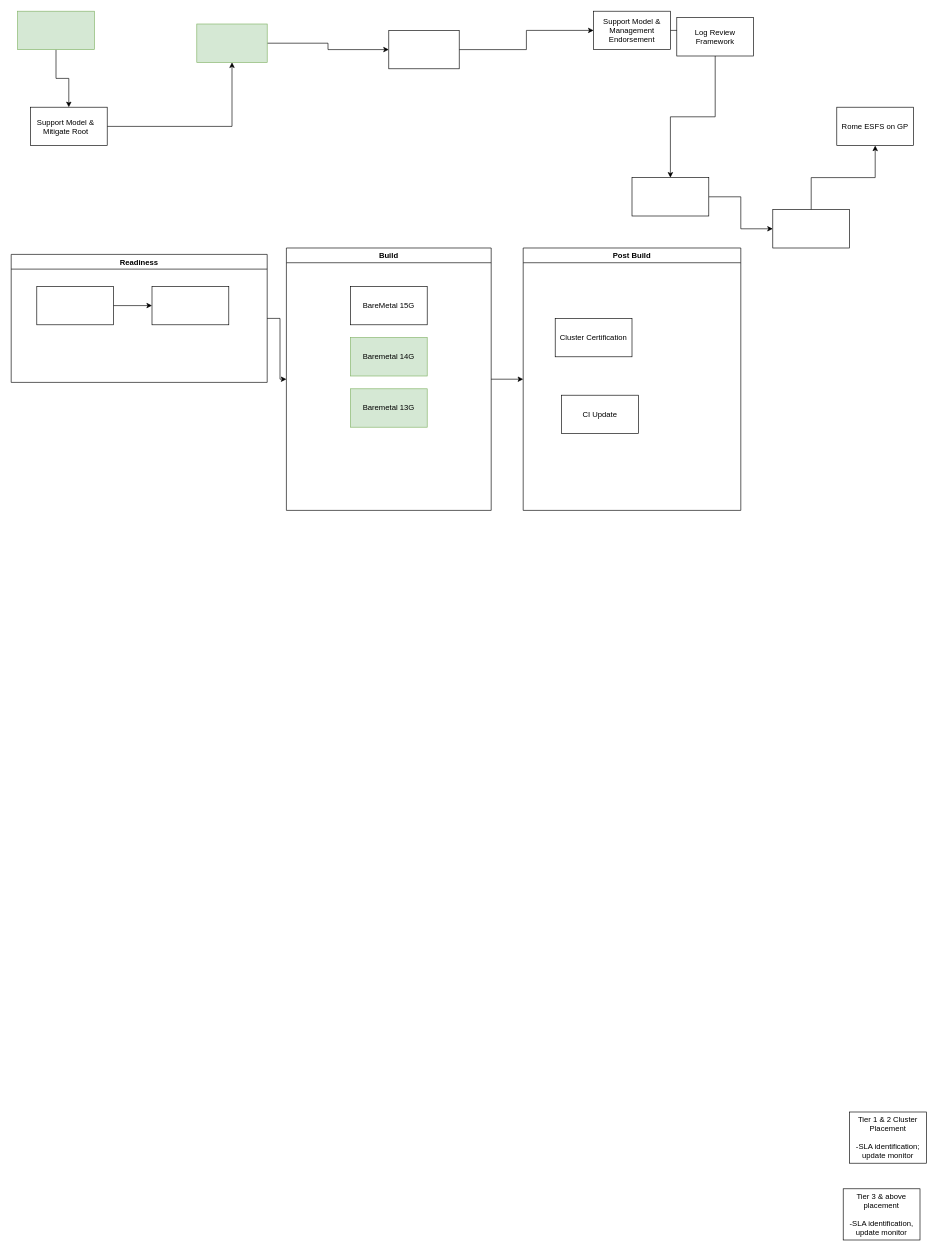
Some shapes in this 938 by 1251 pixel diagram are drawn without their labels. The shapes that lost their labels are listed below. From the top down, each one's centre as x and y in pixels, then its label:
At [55,30]: "Secure Log Bundle".
At [231,42]: "Vulnerability access point assessment".
At [423,49]: "Host Root & Snapshot mitigation".
At [670,196]: "Log Bundle Self-Service".
At [811,228]: "Bangkok ESFS to VMS150".
At [75,305]: "VLAN/Subnet Identification".
At [190,305]: "IP reservation".
